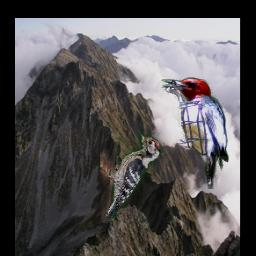Woodpecker: (160, 77, 228, 189), (100, 131, 162, 223)
